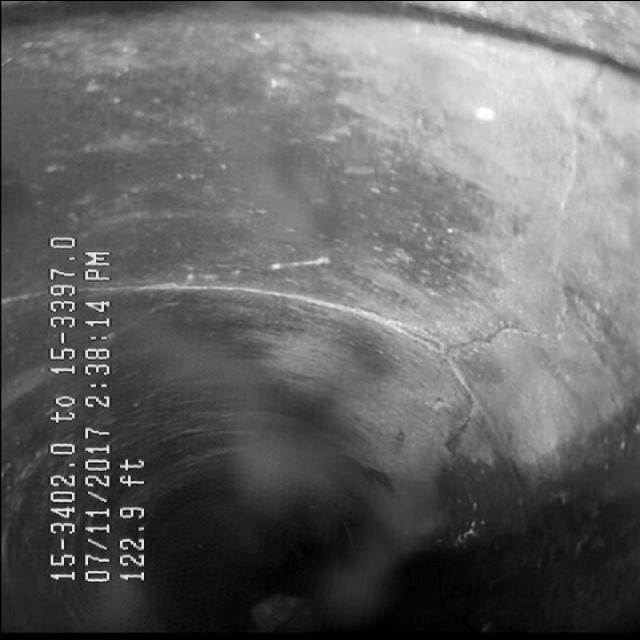Crack: (420, 100, 616, 388)
